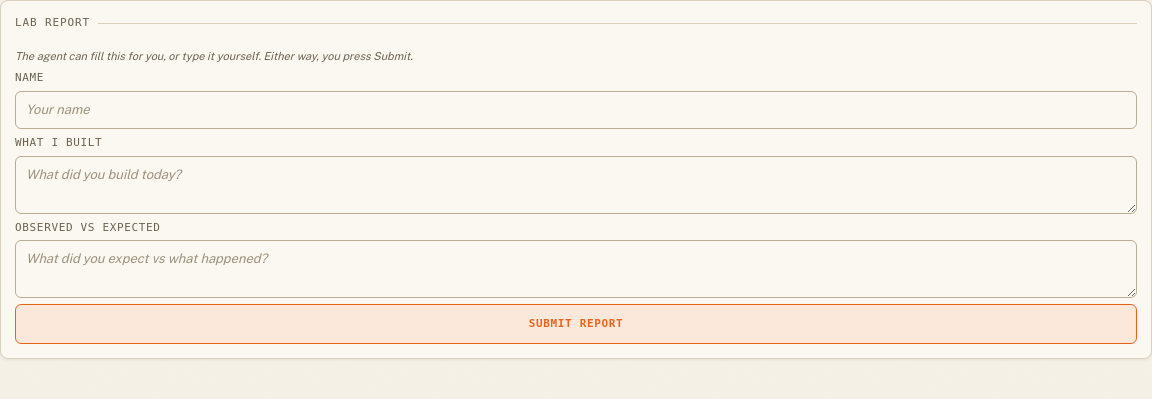
Test: LabReportForm (A14 declarative form tool) › submitting logs the report, shows a confirmation, resets, and never navigates
Type "Tanmay" into the field labelled "Name". click: coordinates (576, 110)
box: top-left (15, 90), bottom-right (1137, 129)
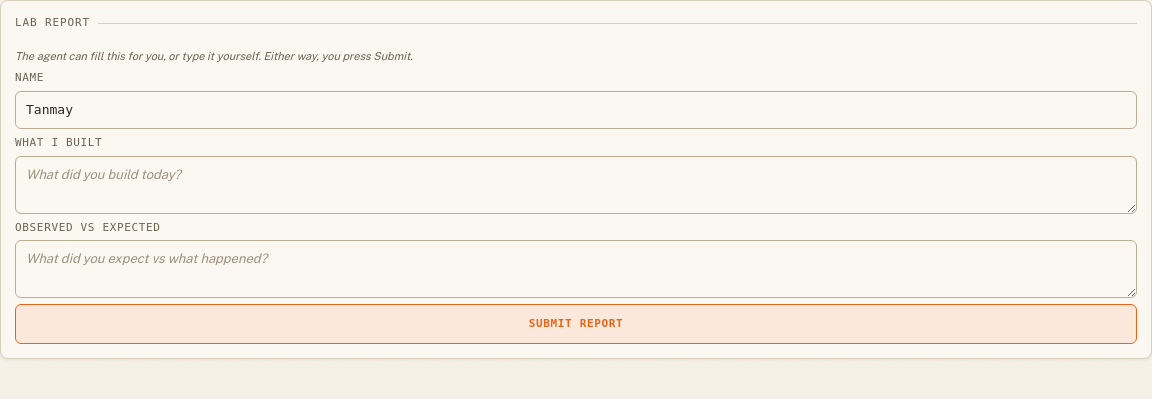
Type "A series circuit with one battery and one resistor" into the text box labelled "What I built". click: coordinates (576, 185)
box: top-left (15, 156), bottom-right (1137, 214)
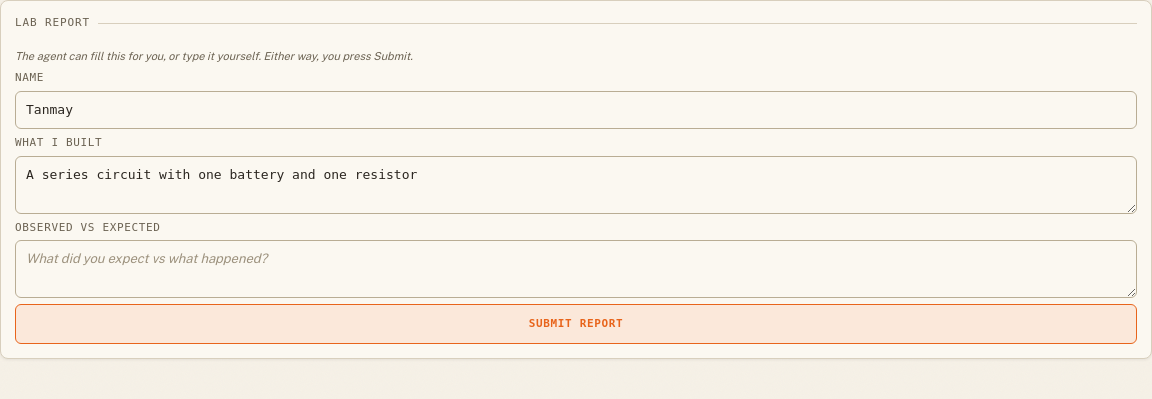
Type "The ammeter read 0.02A; I expected 0.03A." into the text box labelled "Observed vs expected". click: coordinates (576, 269)
box: top-left (15, 240), bottom-right (1137, 298)
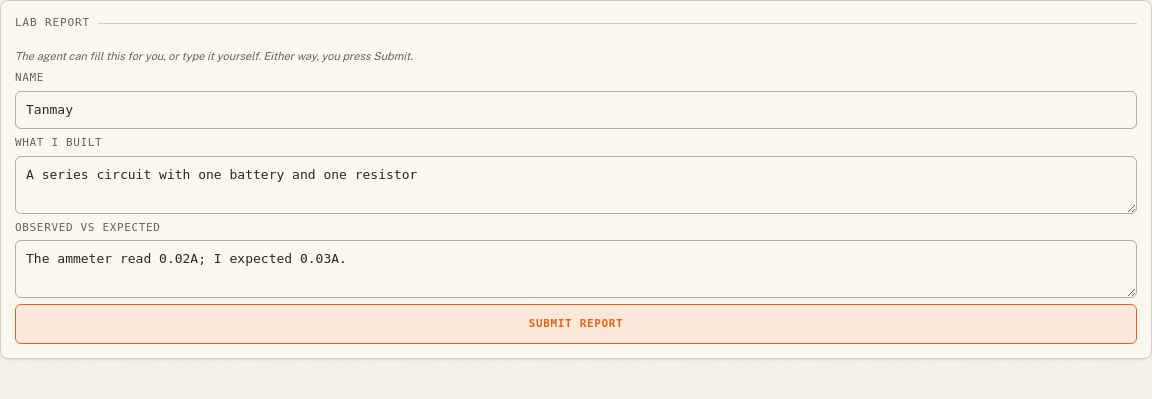
Click the button "Submit report". click: coordinates (576, 324)
box: top-left (15, 304), bottom-right (1137, 344)
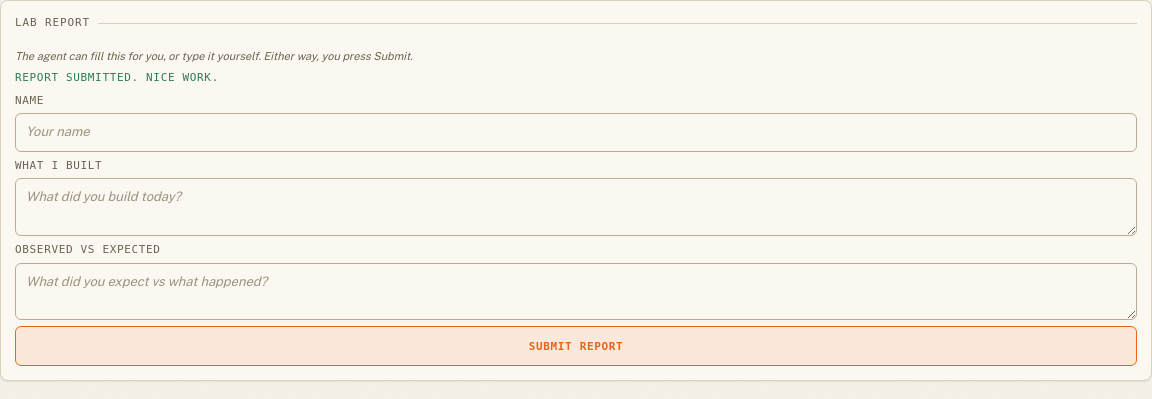
Now the message shows "Report submitted", box top-left (15, 71), bottom-right (219, 84)
Now the field labelled "Name" is empty, box top-left (15, 113), bottom-right (1137, 152)
